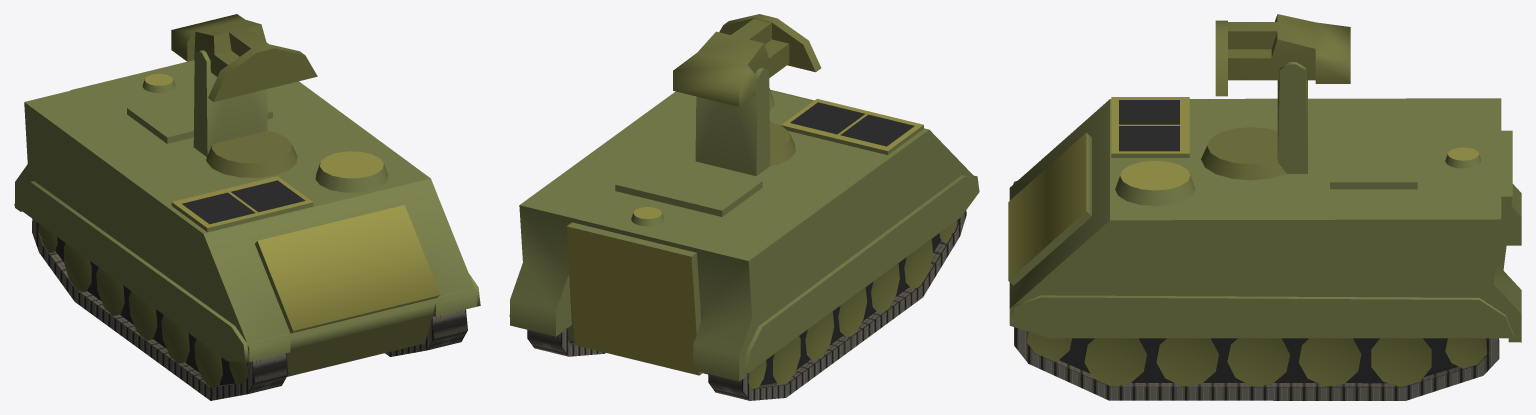
Rendered from artillery.glb.
The picture shows the model from 3 angles, left to right: view 1: azimuth 30°, elevation 25°; view 2: azimuth 150°, elevation 25°; view 3: azimuth 270°, elevation 25°; orthographic projection. The views are drawn at different scales.
Visible parts, largest first — view 1: Hull, Turret, Barrel, Track_R, Track_L; view 2: Hull, Barrel, Turret, Track_R, Track_L; view 3: Hull, Track_L, Barrel, Turret.
Boxes of the visible parts, x1=… form: Hull: x1=14, y1=60, x2=480, y2=387; Turret: x1=193, y1=50, x2=297, y2=177; Barrel: x1=171, y1=14, x2=317, y2=101; Track_R: x1=32, y1=219, x2=288, y2=400; Track_L: x1=385, y1=309, x2=467, y2=356; Hull: x1=509, y1=88, x2=979, y2=388; Barrel: x1=673, y1=14, x2=821, y2=106; Turret: x1=695, y1=67, x2=795, y2=175; Track_R: x1=708, y1=210, x2=966, y2=400; Track_L: x1=527, y1=328, x2=605, y2=356; Hull: x1=1008, y1=97, x2=1521, y2=386; Track_L: x1=1014, y1=327, x2=1499, y2=400; Barrel: x1=1215, y1=14, x2=1350, y2=96; Turret: x1=1201, y1=62, x2=1307, y2=180.
Bounding box in the file's own units: 2.83 × 3.33 × 4.9.
Materials: 5 (1 with a texture image).
